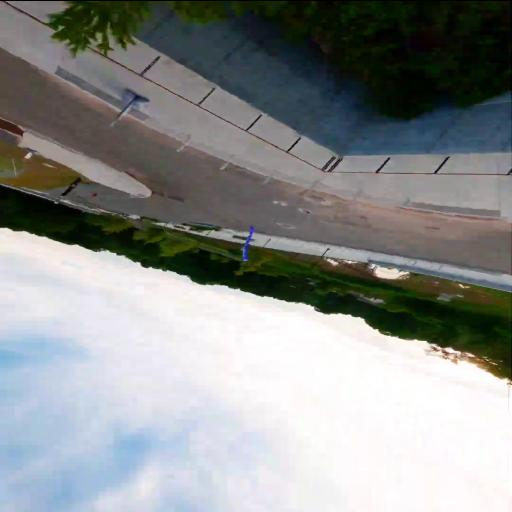uav: (231, 220, 263, 262)
